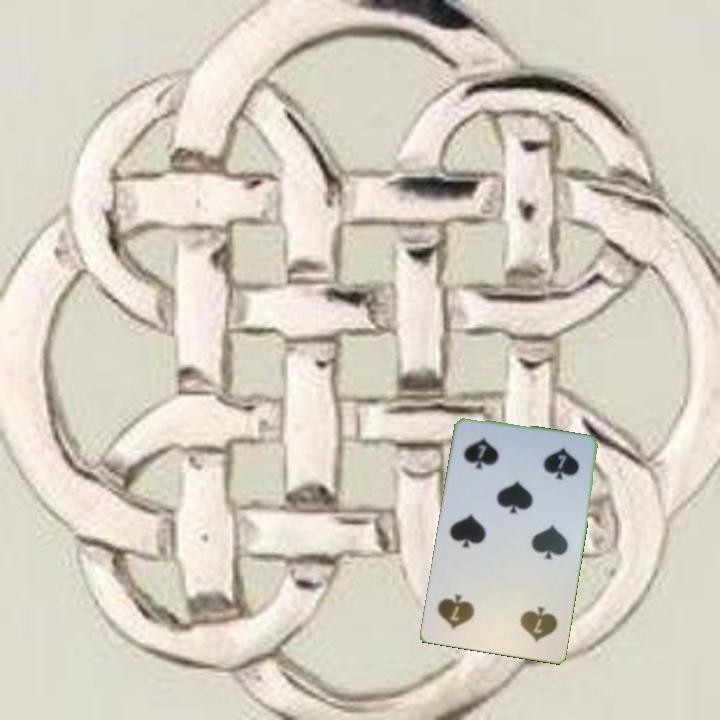s_7.png: (455, 424, 530, 492), (490, 586, 565, 653)
